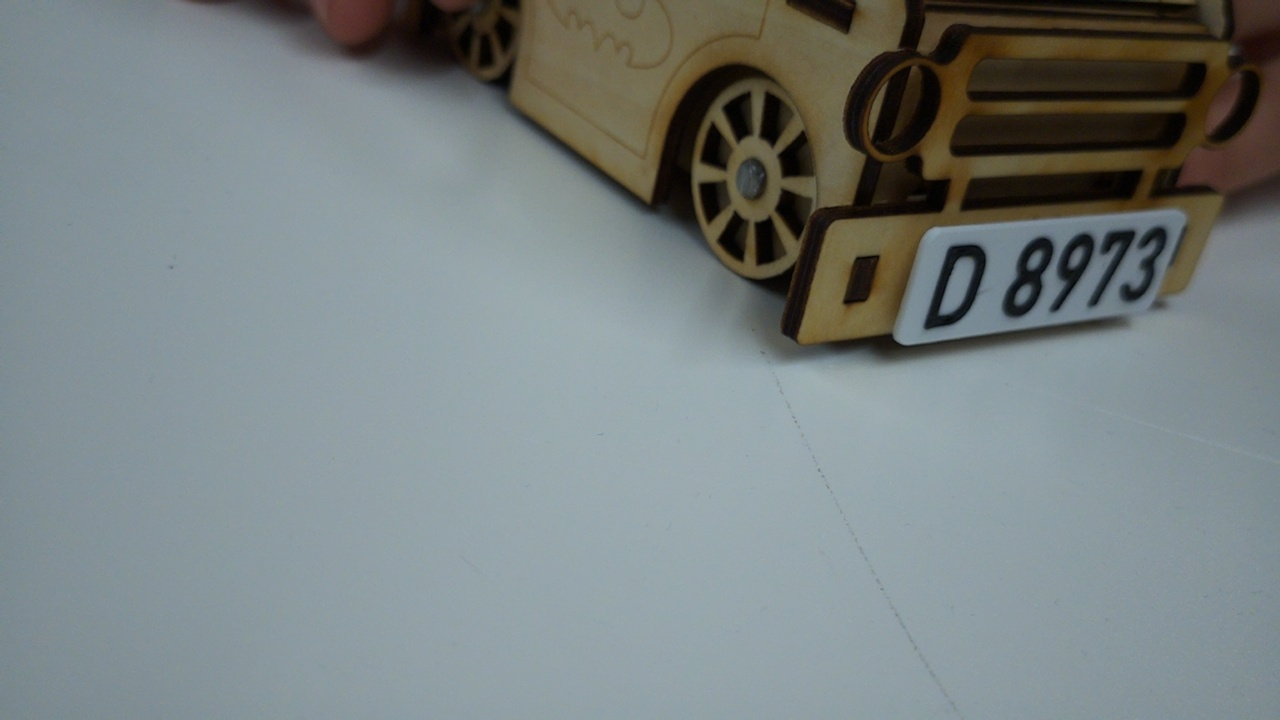license_plate: (890, 207, 1190, 349)
